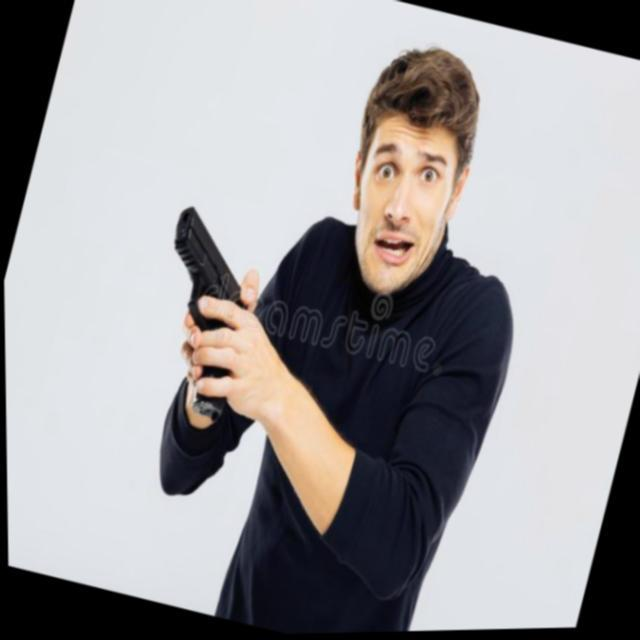weapon: (122, 195, 286, 432)
